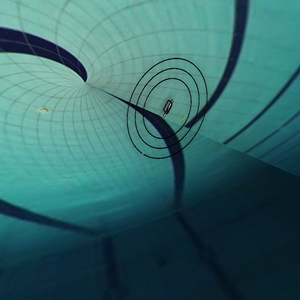circle: (119, 31, 231, 181)
submarine: (158, 93, 175, 121)
